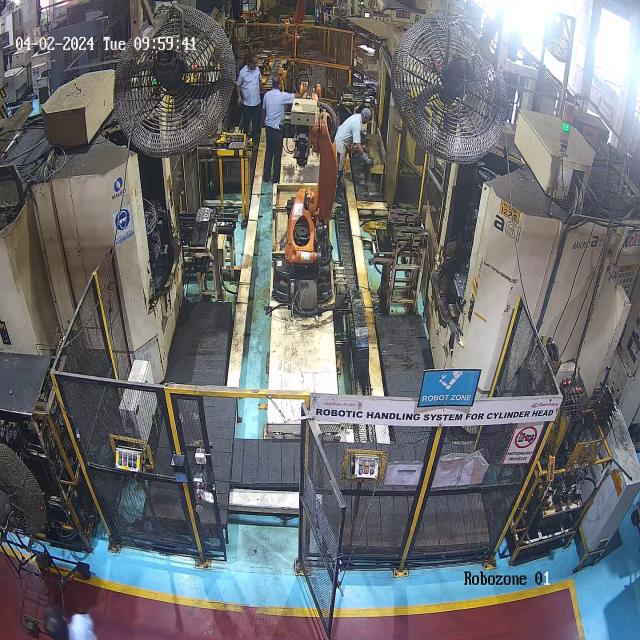person: (337, 105, 373, 204), (264, 71, 292, 186), (236, 52, 263, 152)
